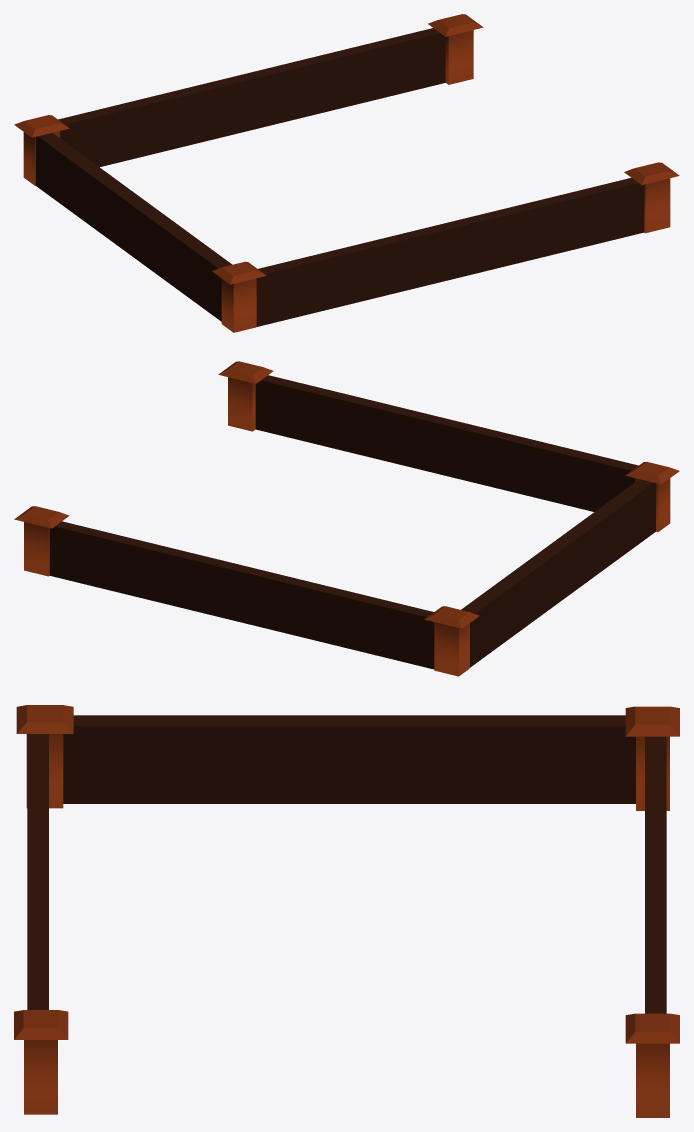
File: Paredes Externas .fbx
The picture shows the model from 3 angles, top to bottom: view 1: azimuth 30°, elevation 25°; view 2: azimuth 150°, elevation 25°; view 3: azimuth 270°, elevation 25°; orthographic projection. The views are drawn at different scales.
Parts seen in each view (by area): view 1: Cube, Cube.002, Cube.001, Coluna da Frente .001, Coluna da Frente .003, Coluna da Frente, Coluna da Frente .002; view 2: Cube.002, Cube, Cube.001, Coluna da Frente .002, Coluna da Frente, Coluna da Frente .003, Coluna da Frente .001; view 3: Cube.001, Cube.002, Cube, Coluna da Frente .003, Coluna da Frente, Coluna da Frente .001, Coluna da Frente .002.
Part boxes in pixels (<box>): Cube: <box>256,178,644,326</box>; Cube.002: <box>58,28,445,167</box>; Cube.001: <box>35,133,232,321</box>; Coluna da Frente .001: <box>212,261,266,332</box>; Coluna da Frente .003: <box>428,14,483,84</box>; Coluna da Frente: <box>624,162,679,233</box>; Coluna da Frente .002: <box>14,115,69,185</box>; Cube.002: <box>49,521,434,669</box>; Cube: <box>255,375,638,511</box>; Cube.001: <box>461,479,655,667</box>; Coluna da Frente .002: <box>424,606,479,676</box>; Coluna da Frente: <box>218,361,273,431</box>; Coluna da Frente .003: <box>14,506,69,576</box>; Coluna da Frente .001: <box>625,461,679,531</box>; Cube.001: <box>63,715,635,803</box>; Cube.002: <box>645,736,666,1013</box>; Cube: <box>27,734,48,1009</box>; Coluna da Frente .003: <box>625,1013,679,1117</box>; Coluna da Frente: <box>14,1010,68,1114</box>; Coluna da Frente .001: <box>16,705,73,808</box>; Coluna da Frente .002: <box>625,706,679,810</box>.
Bounding box in the file's own units: 5139 × 614 × 4295.
